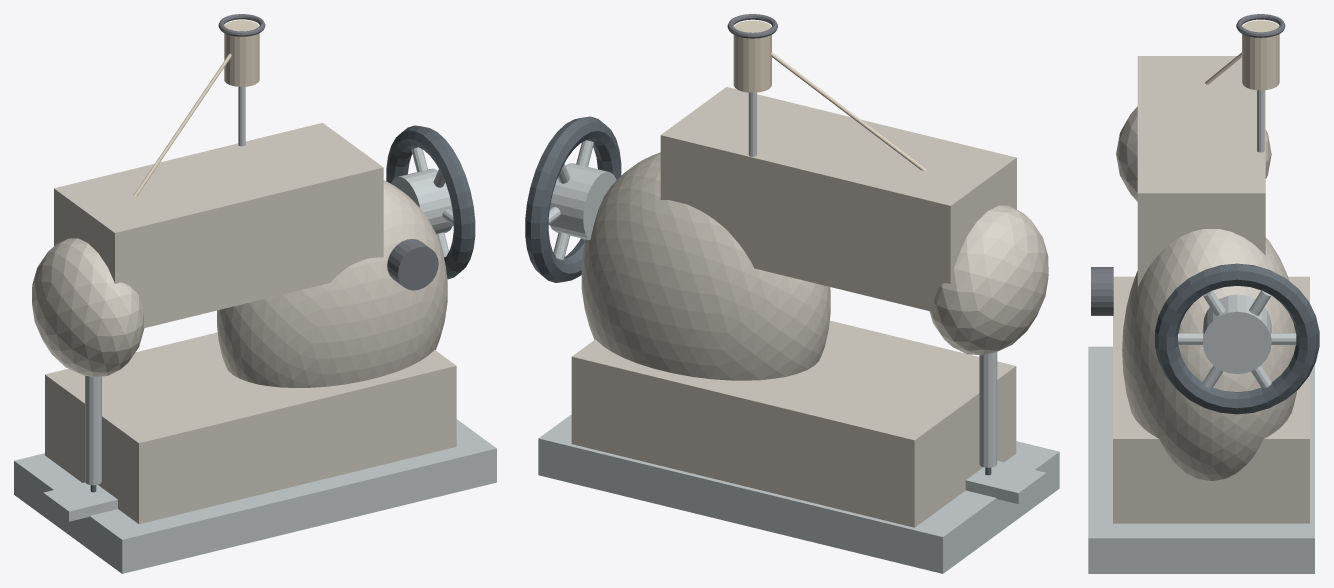
The picture shows the model from 3 angles, left to right: view 1: azimuth 30°, elevation 25°; view 2: azimuth 150°, elevation 25°; view 3: azimuth 270°, elevation 25°; orthographic projection. The views are drawn at different scales.
Parts seen in each view (by area): view 1: TH-014__001__Sewing machine bottom plinth, TH-014__003__Horizontal arm, TH-014__002__Smooth motor casing, TH-014__000__Stainless base plate, TH-014__004__Sewing machine head at needle, TH-014__009__Exposed flywheel, TH-014__018__White thread spool, TH-014__016__Stitch selector knob, TH-014__008__Wheel hub, TH-014__007__Presser foot, TH-014__005__Needle bar, TH-014__020__Thread path down; view 2: TH-014__001__Sewing machine bottom plinth, TH-014__003__Horizontal arm, TH-014__002__Smooth motor casing, TH-014__000__Stainless base plate, TH-014__004__Sewing machine head at needle, TH-014__009__Exposed flywheel, TH-014__008__Wheel hub, TH-014__018__White thread spool, TH-014__007__Presser foot, TH-014__005__Needle bar, TH-014__020__Thread path down, TH-014__019__Sewing spool rim; view 3: TH-014__003__Horizontal arm, TH-014__002__Smooth motor casing, TH-014__001__Sewing machine bottom plinth, TH-014__000__Stainless base plate, TH-014__009__Exposed flywheel, TH-014__008__Wheel hub, TH-014__018__White thread spool, TH-014__004__Sewing machine head at needle, TH-014__016__Stitch selector knob, TH-014__019__Sewing spool rim, TH-014__017__Thread antenna, TH-014__010__Flywheel spokes.
Part boxes in pixels (bbox=[...]): TH-014__001__Sewing machine bottom plinth: bbox=[45, 332, 456, 524]; TH-014__003__Horizontal arm: bbox=[54, 123, 383, 328]; TH-014__002__Smooth motor casing: bbox=[217, 180, 447, 387]; TH-014__000__Stainless base plate: bbox=[14, 419, 496, 573]; TH-014__004__Sewing machine head at needle: bbox=[32, 238, 144, 376]; TH-014__009__Exposed flywheel: bbox=[386, 125, 475, 279]; TH-014__018__White thread spool: bbox=[224, 20, 259, 86]; TH-014__016__Stitch selector knob: bbox=[387, 239, 438, 290]; TH-014__008__Wheel hub: bbox=[391, 168, 452, 234]; TH-014__007__Presser foot: bbox=[43, 482, 117, 521]; TH-014__005__Needle bar: bbox=[85, 375, 101, 485]; TH-014__020__Thread path down: bbox=[133, 53, 231, 196]; TH-014__001__Sewing machine bottom plinth: bbox=[571, 320, 1016, 527]; TH-014__003__Horizontal arm: bbox=[660, 87, 1016, 312]; TH-014__002__Smooth motor casing: bbox=[581, 152, 830, 380]; TH-014__000__Stainless base plate: bbox=[538, 414, 1059, 573]; TH-014__004__Sewing machine head at needle: bbox=[929, 205, 1048, 355]; TH-014__009__Exposed flywheel: bbox=[525, 116, 621, 282]; TH-014__008__Wheel hub: bbox=[549, 163, 616, 239]; TH-014__018__White thread spool: bbox=[733, 20, 771, 92]; TH-014__007__Presser foot: bbox=[965, 461, 1046, 503]; TH-014__005__Needle bar: bbox=[979, 352, 997, 467]; TH-014__020__Thread path down: bbox=[771, 52, 926, 170]; TH-014__019__Sewing spool rim: bbox=[727, 14, 777, 38]; TH-014__003__Horizontal arm: bbox=[1137, 56, 1265, 286]; TH-014__002__Smooth motor casing: bbox=[1122, 229, 1297, 480]; TH-014__001__Sewing machine bottom plinth: bbox=[1113, 276, 1309, 523]; TH-014__000__Stainless base plate: bbox=[1088, 346, 1314, 573]; TH-014__009__Exposed flywheel: bbox=[1155, 263, 1319, 414]; TH-014__008__Wheel hub: bbox=[1202, 294, 1271, 374]; TH-014__018__White thread spool: bbox=[1242, 20, 1279, 90]; TH-014__004__Sewing machine head at needle: bbox=[1116, 106, 1271, 201]; TH-014__016__Stitch selector knob: bbox=[1091, 267, 1113, 315]; TH-014__019__Sewing spool rim: bbox=[1236, 14, 1285, 37]; TH-014__017__Thread antenna: bbox=[1257, 90, 1264, 152]; TH-014__010__Flywheel spokes: bbox=[1271, 333, 1296, 344].
Size of the model in its own units: 0.5109 by 0.518 by 0.2345.
